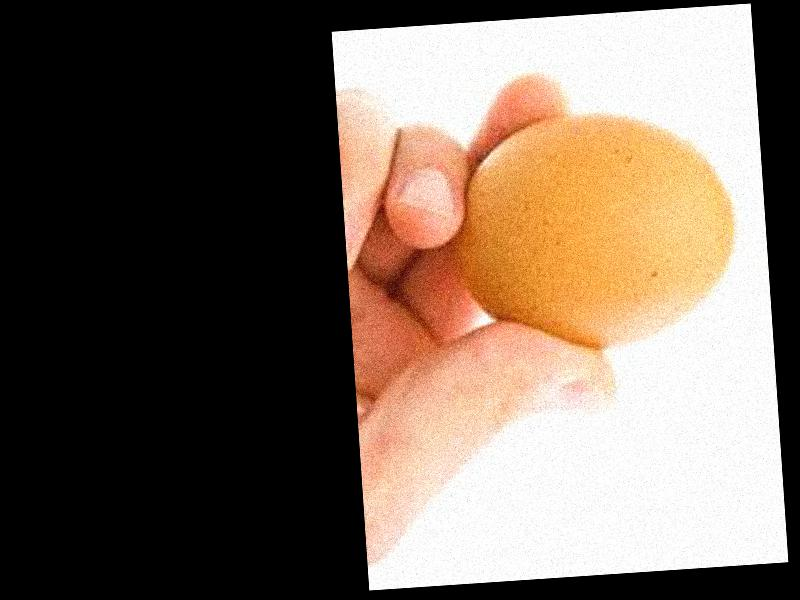Eggs: (455, 103, 744, 357)
